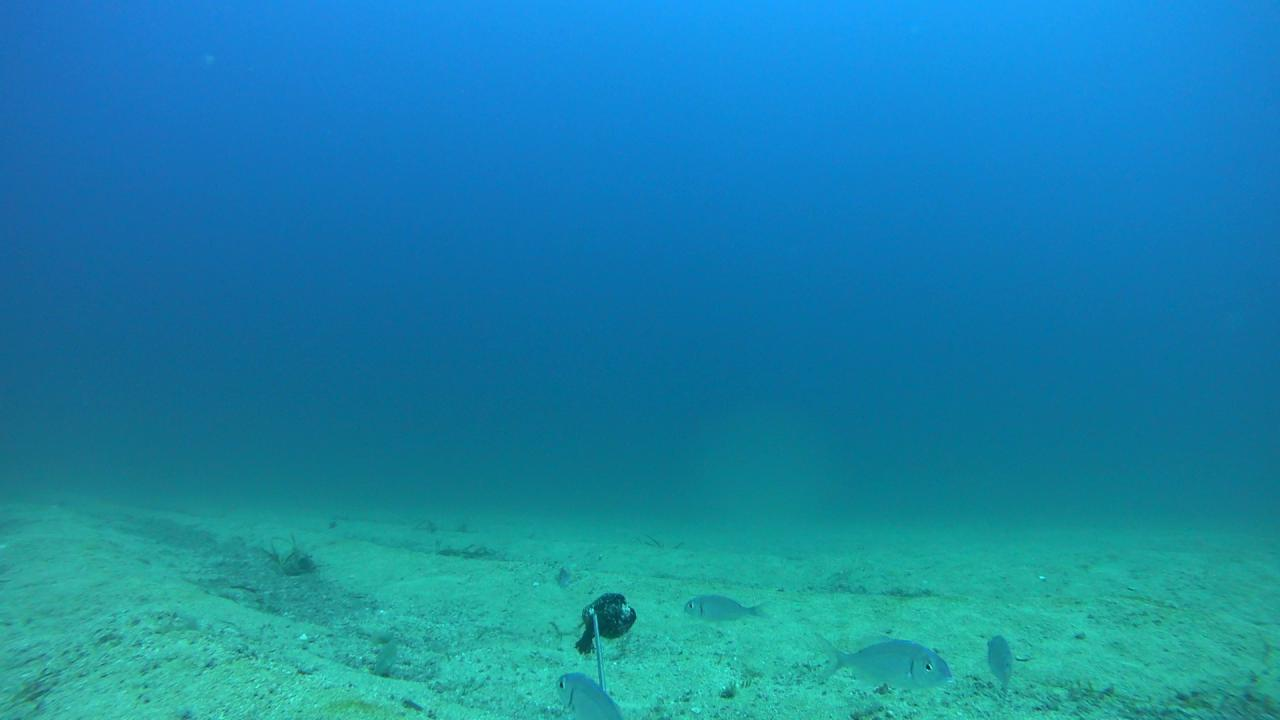pagellus: (811, 628, 952, 690), (680, 591, 766, 620)
